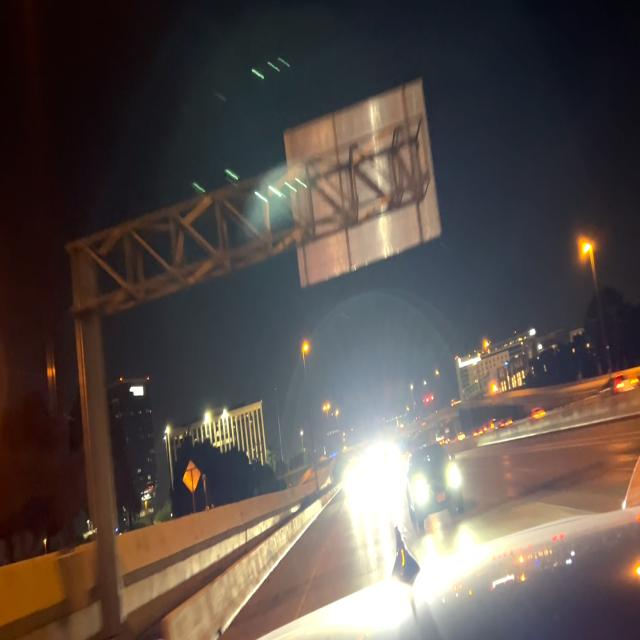back-of-sign: (285, 84, 441, 293)
